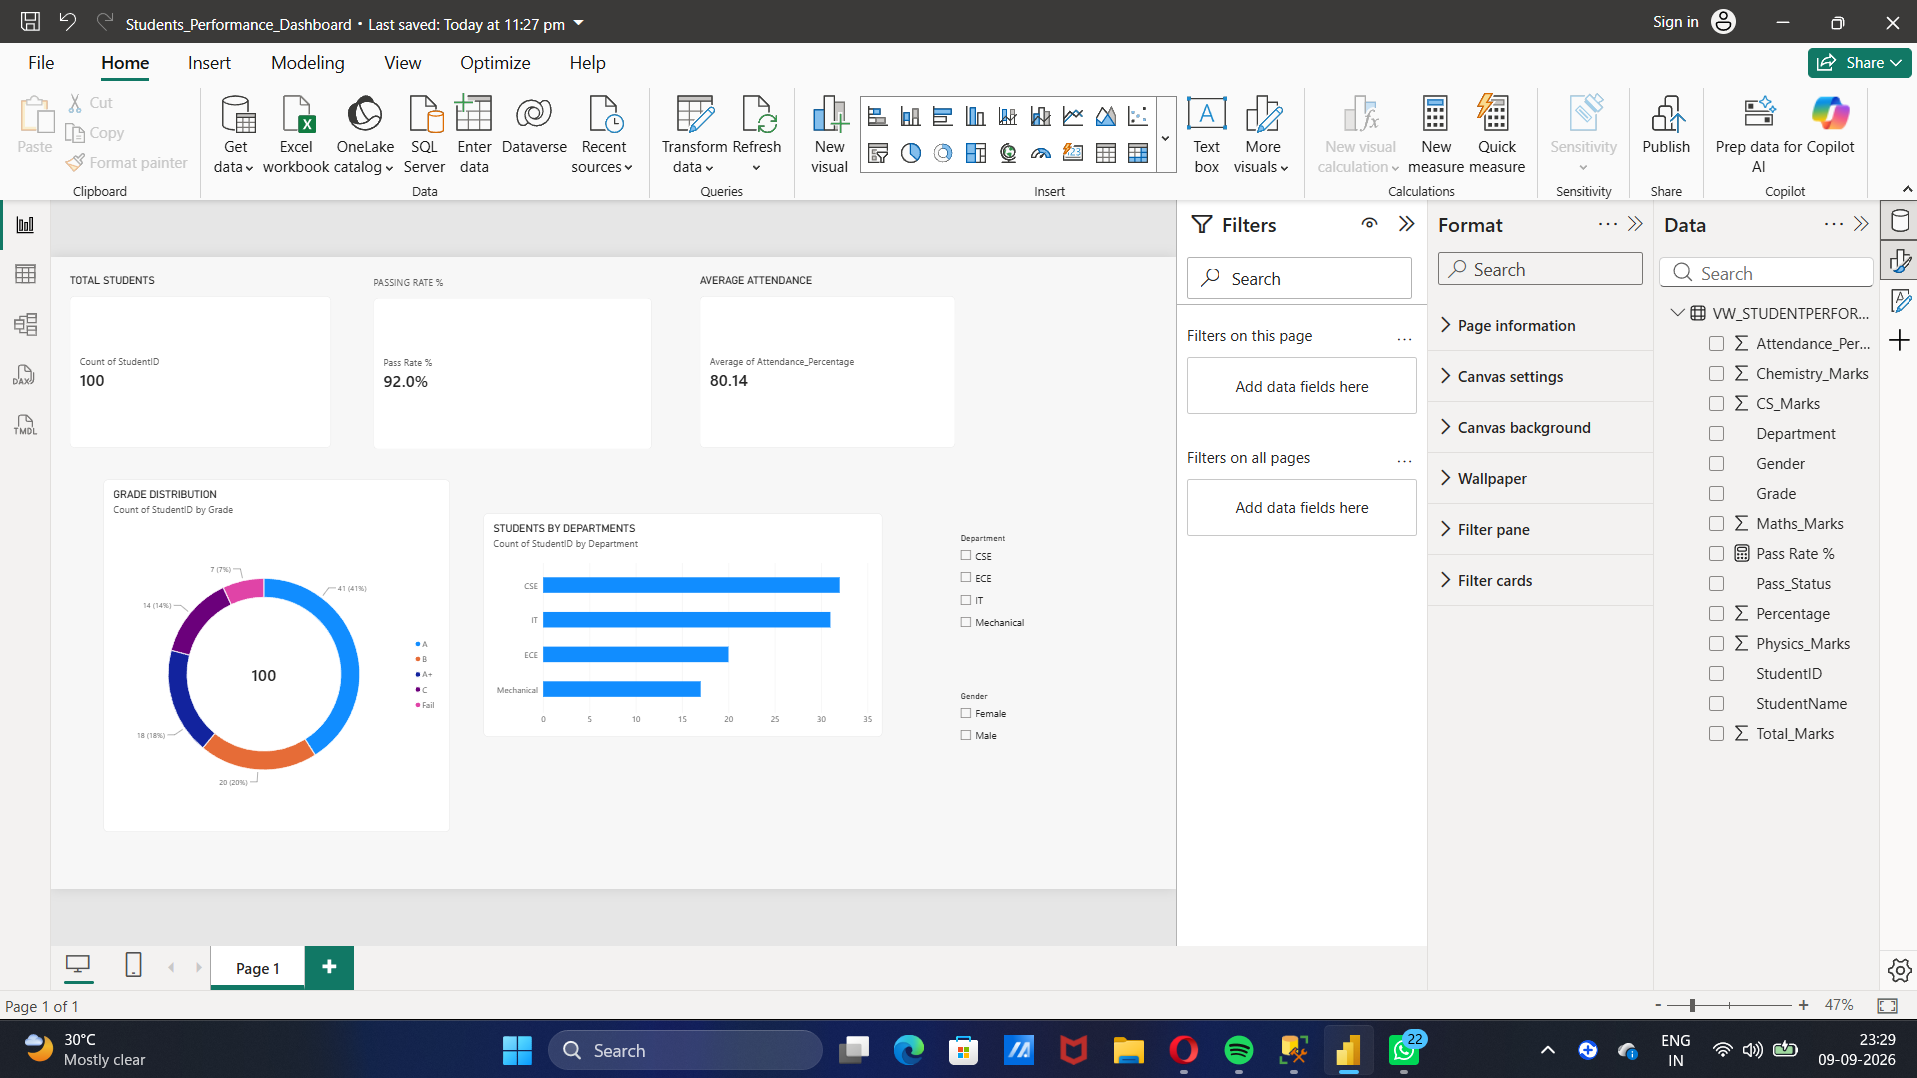

What the dashboard file says about the page in this screenshot:
{"tool":"powerbi","page":{"name":"Page 1","canvas":[1920,1080],"ordinal":0},"visuals":[{"type":"cardVisual","title":"TOTAL STUDENTS","fields":{"Data":["Count(VW_STUDENTPERFORMANCE.StudentID)"]},"box":[32,29.9,447,296.8],"z":0},{"type":"cardVisual","fields":{"Data":["VW_STUDENTPERFORMANCE.Pass Rate %"]},"box":[550.1,30.8,475.9,296.8],"z":1000},{"type":"cardVisual","title":"AVERAGE ATTENDANCE","fields":{"Data":["Avg(VW_STUDENTPERFORMANCE.Attendance_Percentage)"]},"box":[1107.5,30.8,436.1,296.8],"z":2000},{"type":"donutChart","title":"GRADE DISTRIBUTION","fields":{"Category":["VW_STUDENTPERFORMANCE.Grade"],"Y":["Count(VW_STUDENTPERFORMANCE.StudentID)"]},"box":[89.6,379.7,590.9,601.6],"z":2001},{"type":"clusteredBarChart","title":"STUDENTS BY DEPARTMENTS","fields":{"Category":["VW_STUDENTPERFORMANCE.Department"],"Y":["Count(VW_STUDENTPERFORMANCE.StudentID)"]},"box":[738.1,437.3,680.5,381.9],"z":2002},{"type":"slicer","fields":{"Values":["VW_STUDENTPERFORMANCE.Department"]},"box":[1544.5,471.5,349.9,209.1],"z":2003},{"type":"slicer","fields":{"Values":["VW_STUDENTPERFORMANCE.Gender"]},"box":[1543.6,740.2,350,219],"z":2004}]}

Visuals, with their boxes on the page's 1920x1080 design canvas (x1, y1, x2, y2). These are canvas units, not pixel positions in the 1917x1078 screenshot, which may show the page scaled, cropped or inside an application window:
"TOTAL STUDENTS" cardVisual: 32 30 479 327
cardVisual - VW_STUDENTPERFORMANCE.Pass Rate %: 550 31 1026 328
"AVERAGE ATTENDANCE" cardVisual: 1108 31 1544 328
"GRADE DISTRIBUTION" donutChart: 90 380 680 981
"STUDENTS BY DEPARTMENTS" clusteredBarChart: 738 437 1419 819
slicer - VW_STUDENTPERFORMANCE.Department: 1544 472 1894 681
slicer - VW_STUDENTPERFORMANCE.Gender: 1544 740 1894 959
